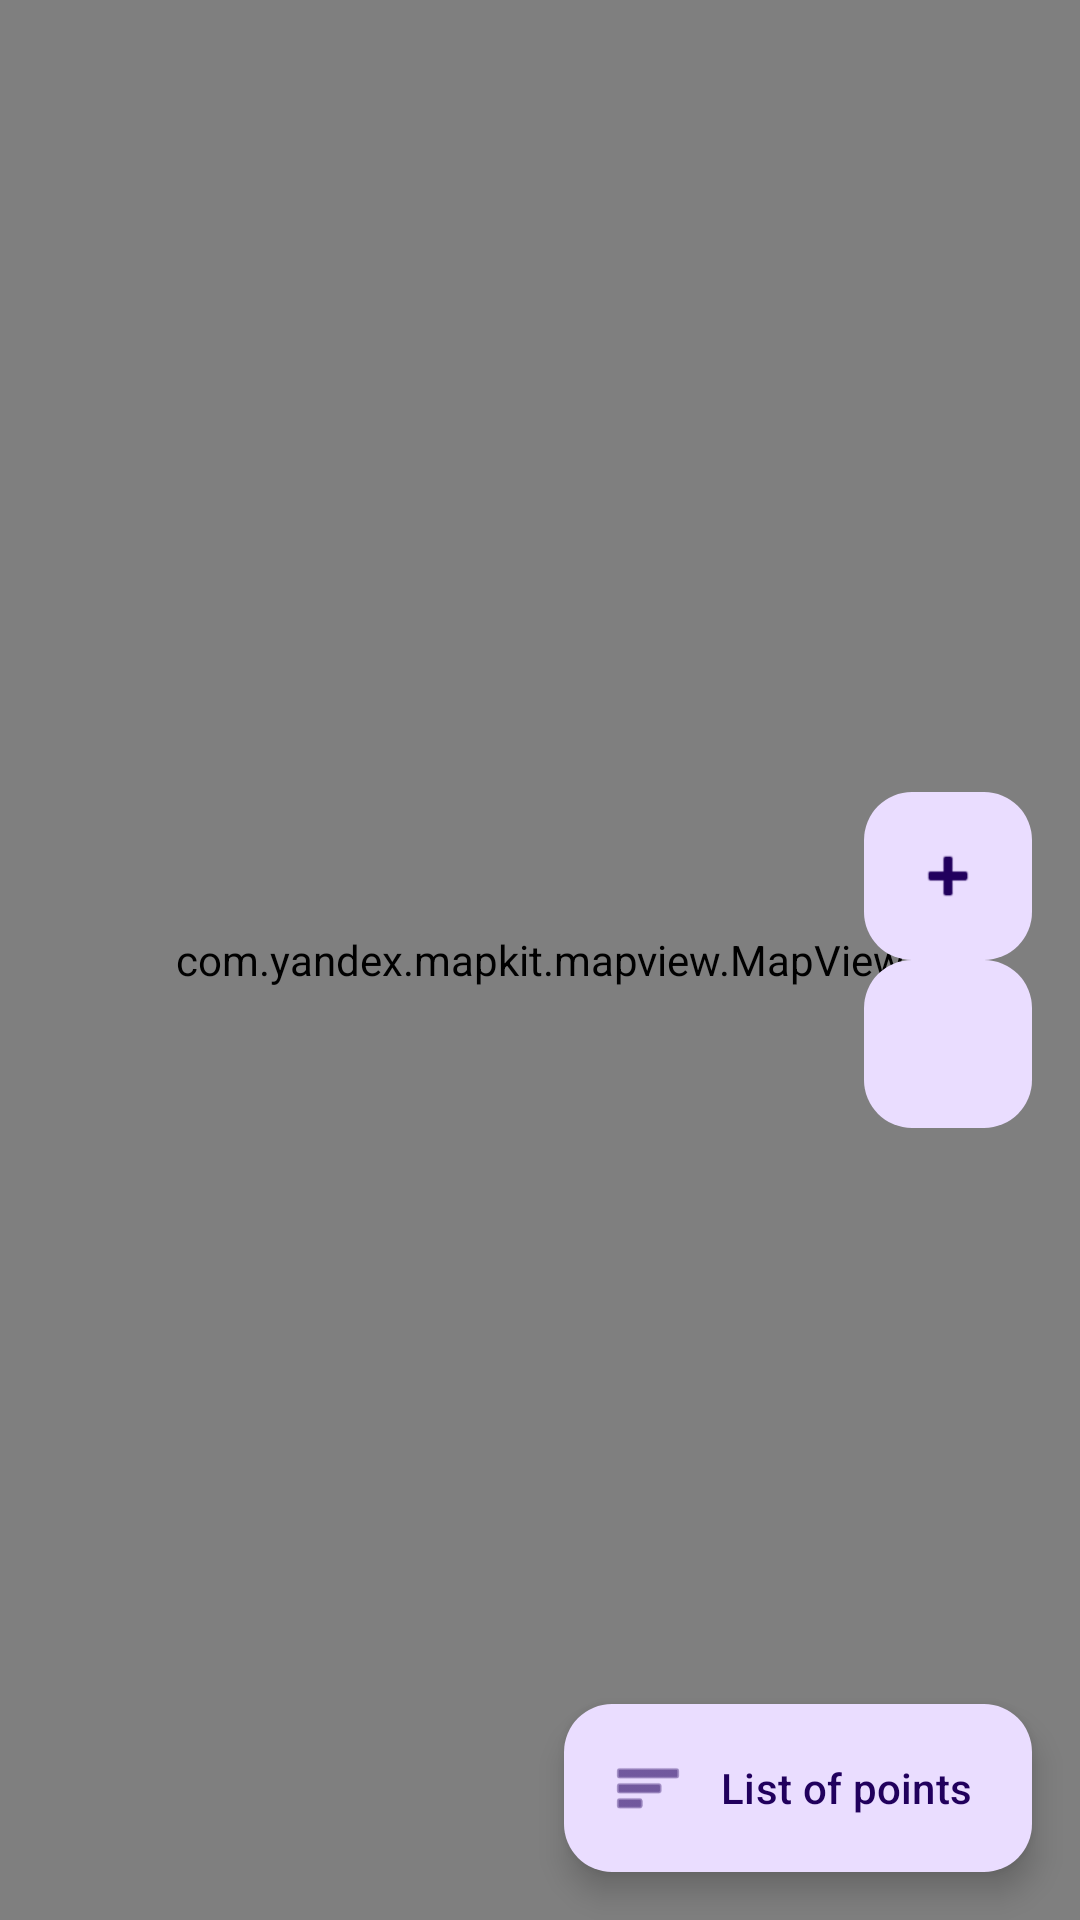

Screen size 1080 × 1920. Icon name, then its center in pixels as [x,y]:
Zoom in: [948,876]
